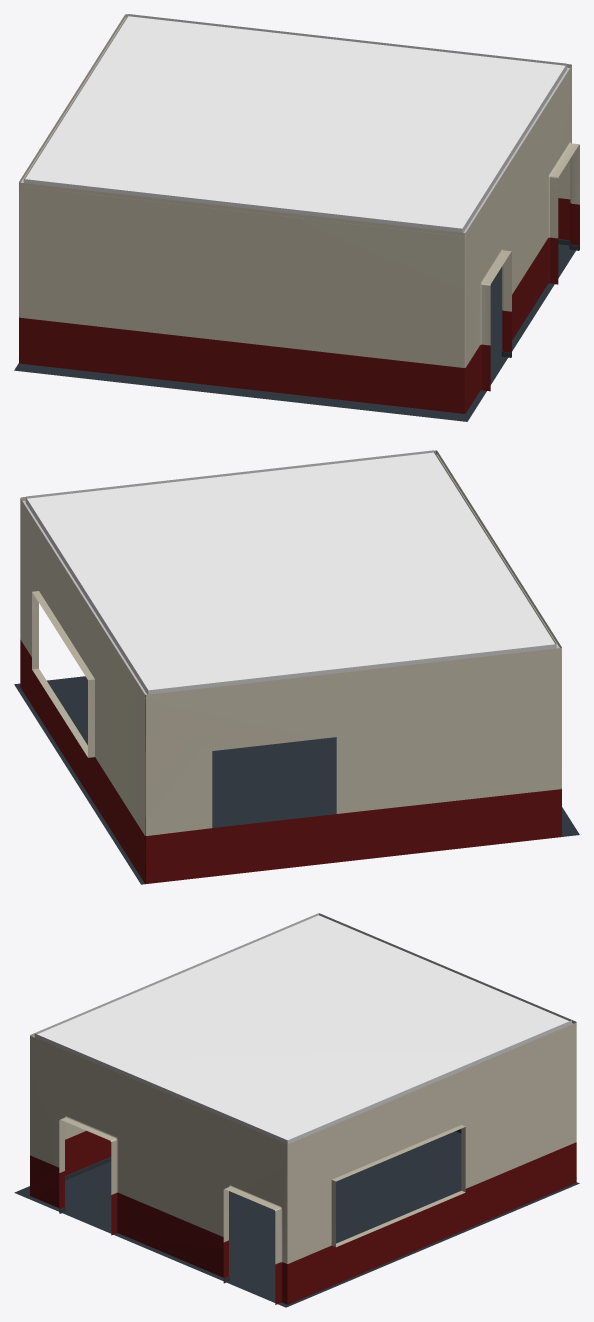
The model's file is SM_H_Building_Tide_Jail_Monitor_01b_ATLAS.fbx.
3 renders of one model, top to bottom at view 1: azimuth 30°, elevation 25°; view 2: azimuth 150°, elevation 25°; view 3: azimuth 270°, elevation 25°, orthographic. The views are drawn at different scales.
Parts seen in each view (by area): view 1: SM_H_Building_Tide_Jail_Monitor_01b_ATLAS; view 2: SM_H_Building_Tide_Jail_Monitor_01b_ATLAS; view 3: SM_H_Building_Tide_Jail_Monitor_01b_ATLAS.
Part boxes in pixels (box(x1,y1,x2,y2)): SM_H_Building_Tide_Jail_Monitor_01b_ATLAS: box(14, 14, 579, 421); SM_H_Building_Tide_Jail_Monitor_01b_ATLAS: box(14, 450, 579, 884); SM_H_Building_Tide_Jail_Monitor_01b_ATLAS: box(14, 913, 579, 1307).
Size of the model in its own units: 1407 by 1407 by 446.
